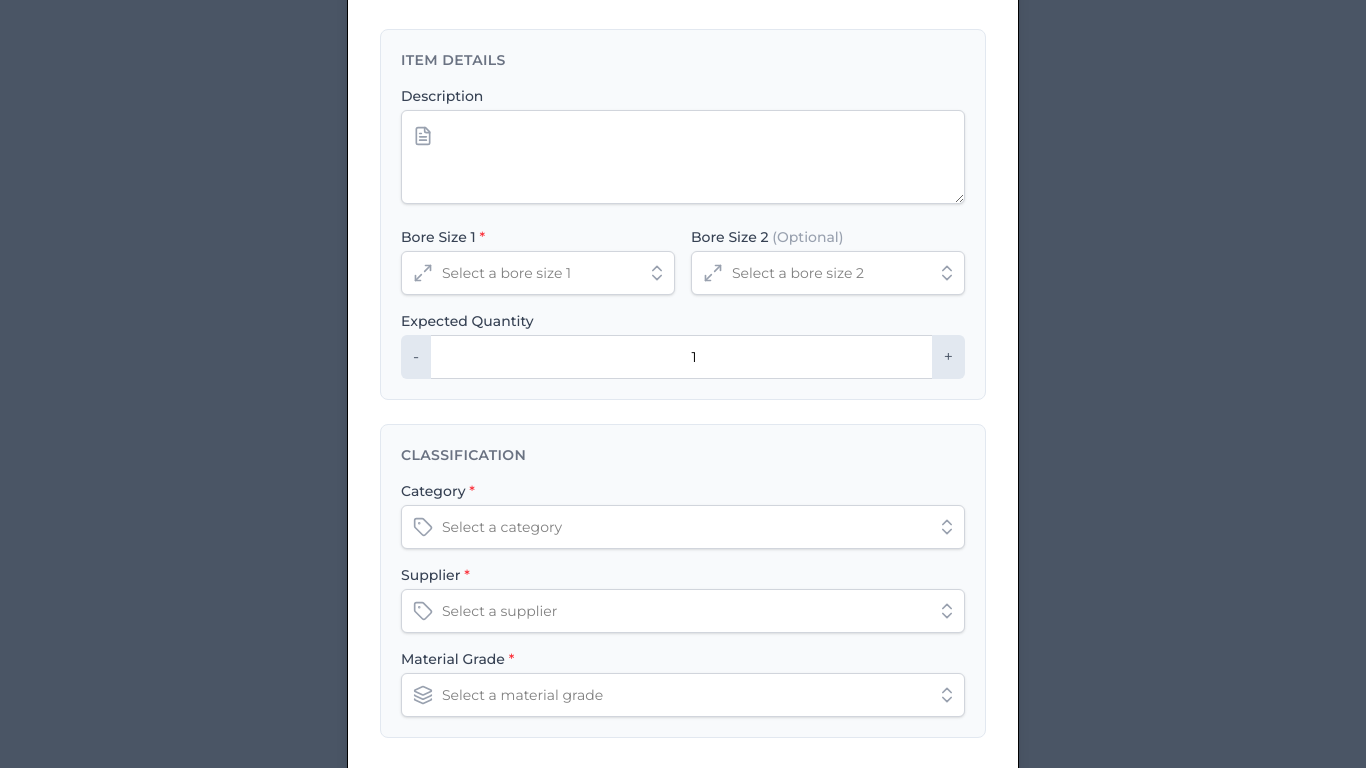
it: AddEditMaterialModal Component › shows validation errors for required fields on submit
The image size is (1366, 768).
// Clear default values to trigger validation
Clear the number field labelled "Expected Quantity" at (681, 357), box [431, 335, 932, 379]
(page scrolled)
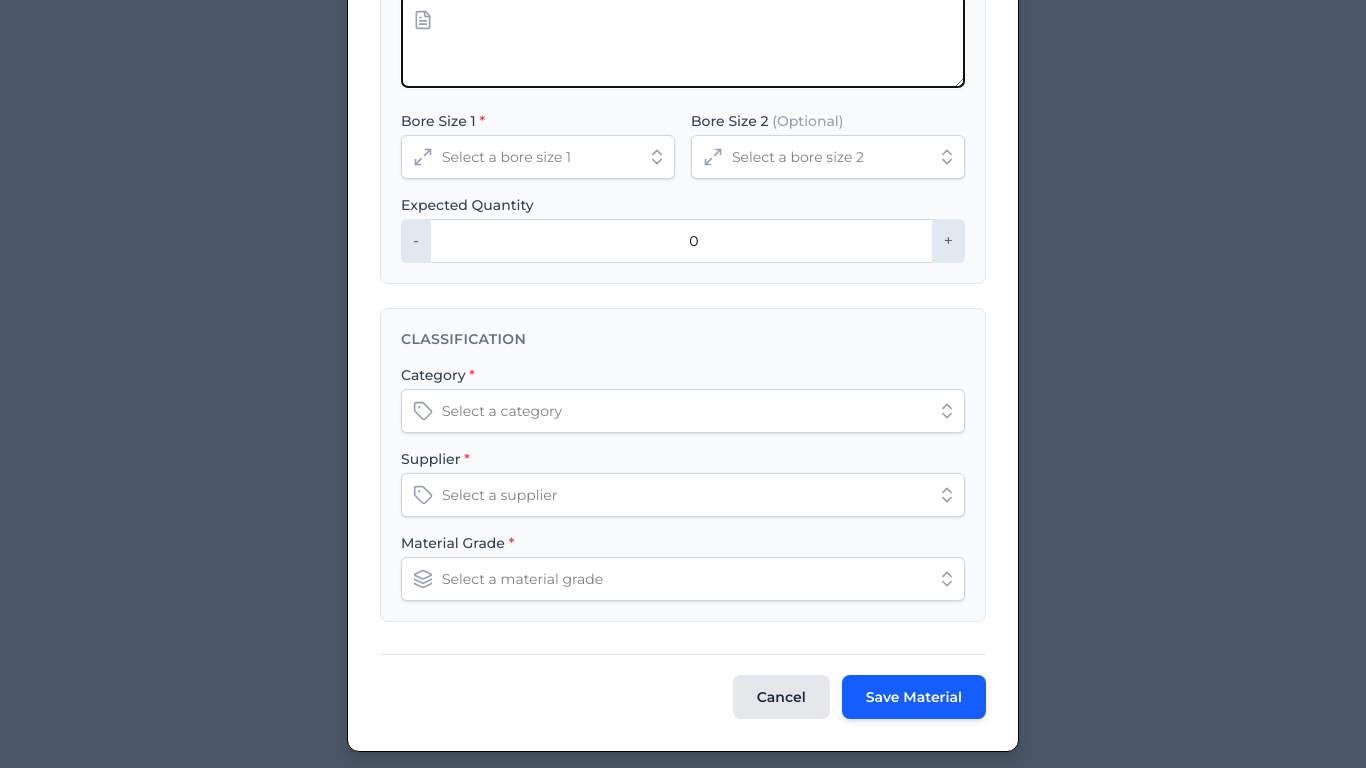
Click the button "Save Material" at (914, 697), box [842, 675, 986, 719]
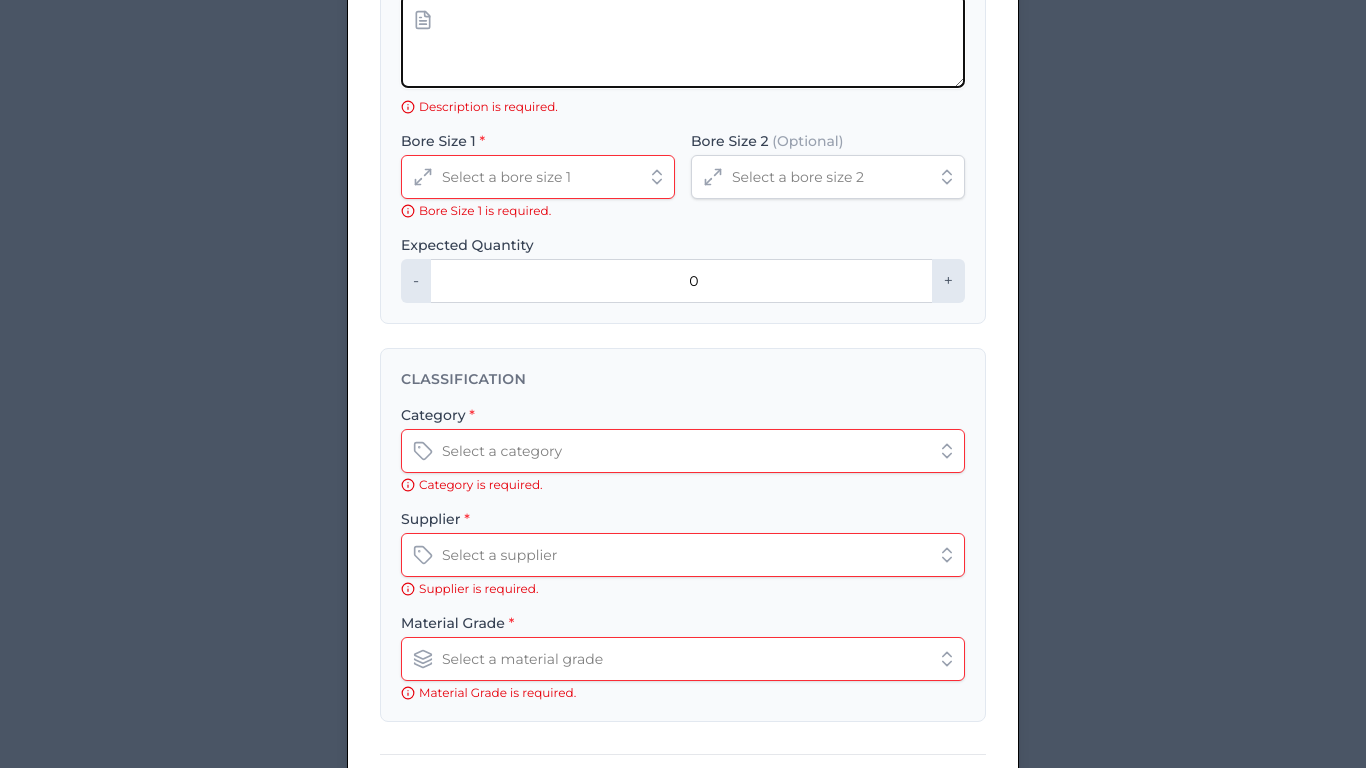
Expected: the text "Description is required." is shown, [401, 99, 558, 114]
Expected: the text "Bore Size 1 is required." is shown, [401, 203, 551, 218]
Expected: the text "Category is required." is shown, [401, 477, 543, 492]
